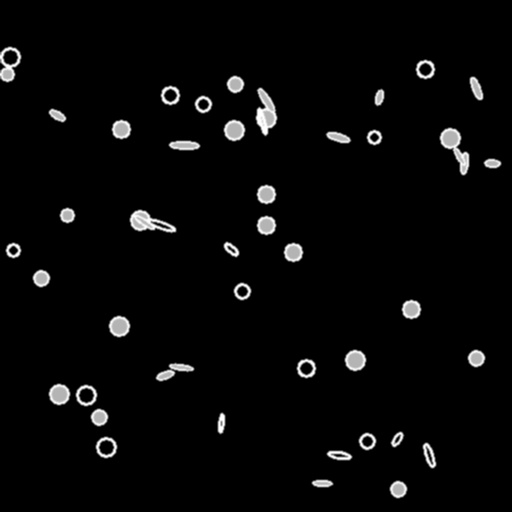pseudomonas: (256, 87, 276, 113), (146, 217, 176, 233), (468, 76, 484, 100), (422, 442, 436, 468), (133, 214, 155, 230), (256, 108, 268, 134), (326, 131, 350, 143), (222, 241, 240, 257), (452, 147, 466, 165), (48, 108, 66, 122), (169, 141, 199, 149), (390, 431, 404, 447), (328, 450, 350, 460), (156, 369, 174, 381), (169, 363, 193, 371), (460, 152, 468, 174), (374, 89, 384, 105), (217, 414, 225, 432), (313, 480, 331, 486), (484, 160, 500, 166)
synechocystis: (225, 121, 243, 139), (77, 386, 95, 404), (50, 385, 68, 403), (346, 351, 364, 369), (1, 48, 19, 66), (131, 211, 149, 229), (97, 438, 115, 456), (257, 109, 275, 127), (110, 317, 128, 335), (441, 129, 459, 147), (298, 360, 314, 376), (113, 121, 129, 137), (162, 87, 178, 103), (258, 186, 274, 202), (285, 244, 301, 260), (258, 217, 274, 233), (403, 301, 419, 317), (417, 61, 433, 77), (228, 77, 242, 91), (92, 410, 106, 424), (391, 482, 405, 496), (469, 351, 483, 365), (34, 271, 48, 285), (196, 97, 210, 111), (235, 284, 249, 298), (360, 434, 374, 448), (61, 209, 73, 221), (368, 131, 380, 143), (7, 244, 19, 256), (1, 68, 13, 80)
